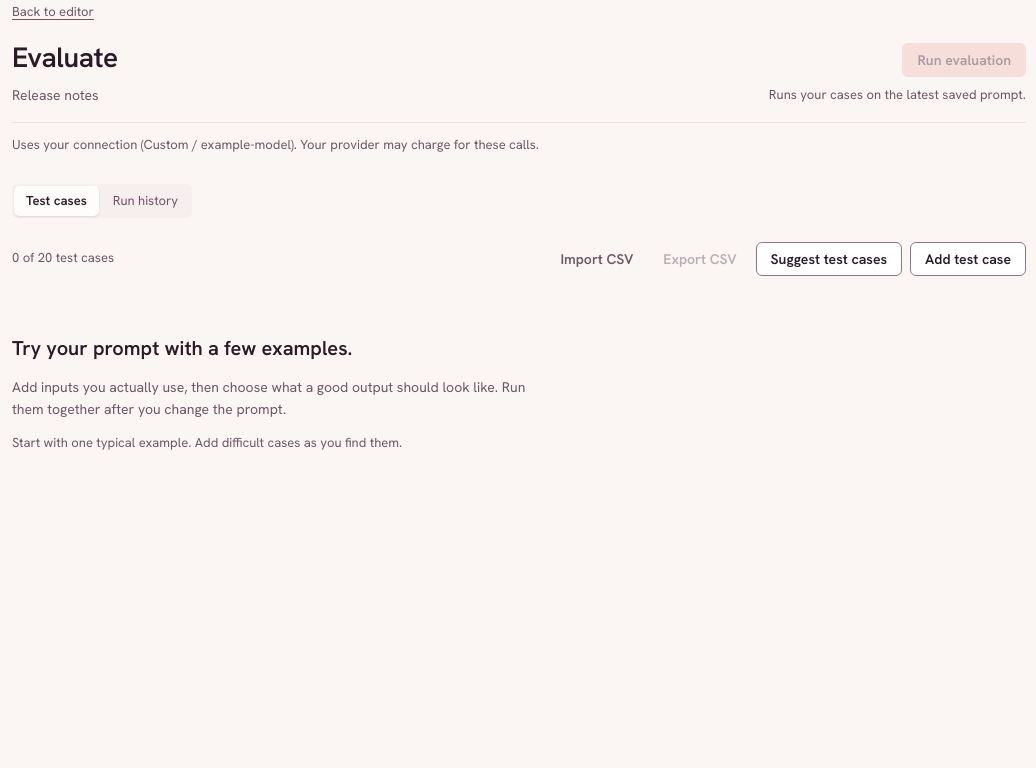
Test: rates an AI-reviewed output beside its AI score and reports agreement
The width and height of the screenshot is (1036, 768).
Expected: the heading "Evaluate" is shown, [12,35,118,80]
Click the radio button labelled "Run history" at (146, 201), box [101,186,190,216]
(page scrolled)
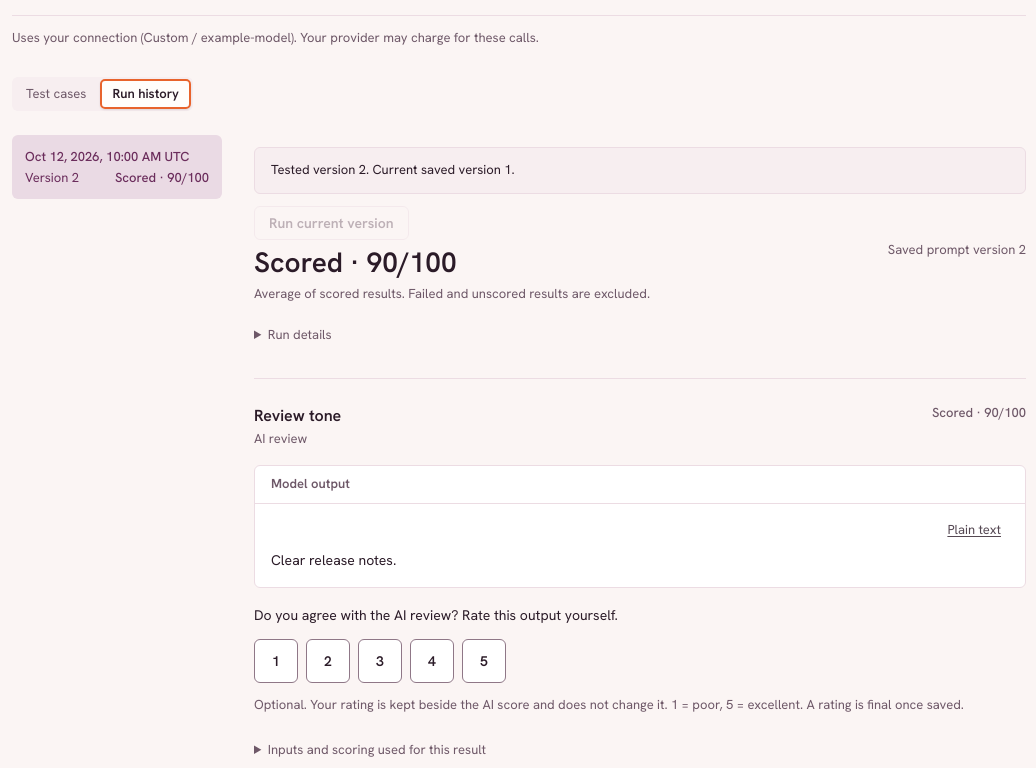
Expected: the text "AI review agreed" is not shown
Click the button named "Rate 2 out of 5" at (328, 661), box [306,639,350,683]
(page scrolled)
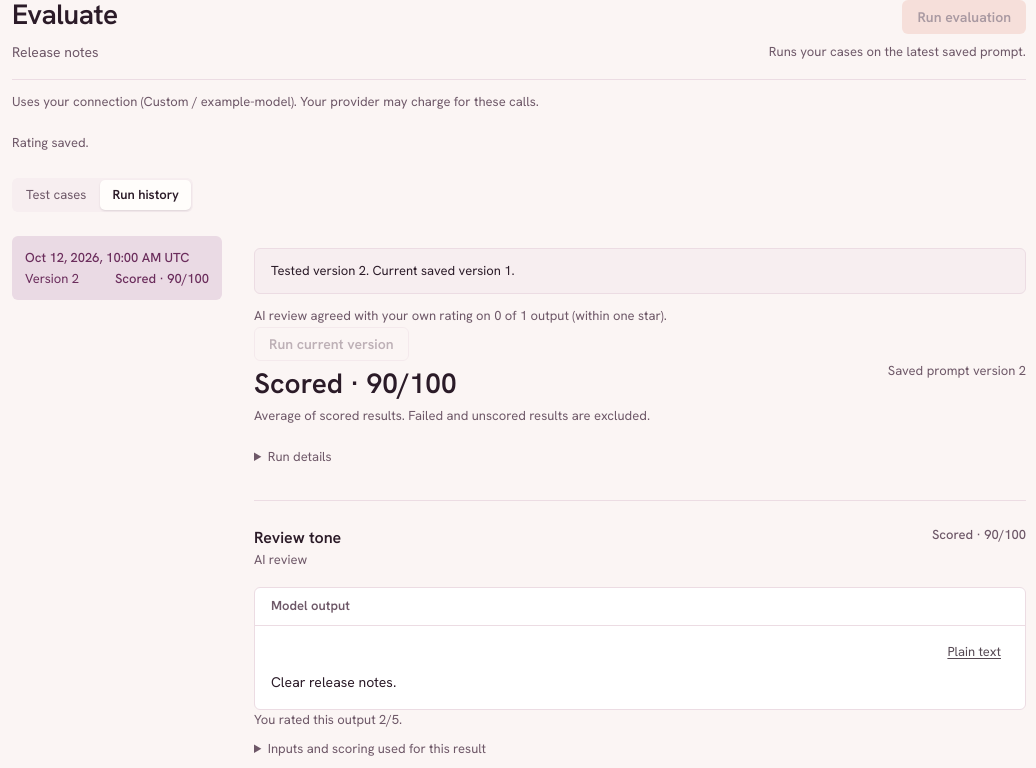
Expected: the 1st text "Scored · 90/100" is shown, [115,270,209,287]
Expected: the text "You rated this output 2/5." is shown, [254,711,402,728]
Expected: the text "AI review agreed with your own rating on 0 of 1 output (within one star)." is shown, [254,307,667,324]
